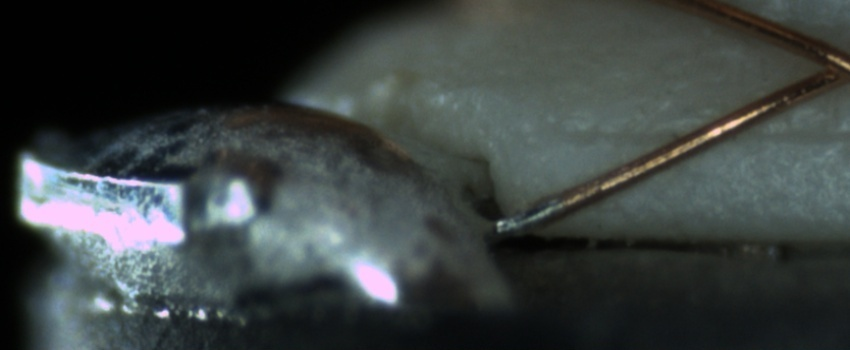CL: (793, 35, 850, 93)
DL: (551, 107, 847, 168)
TS: (490, 198, 562, 235)
